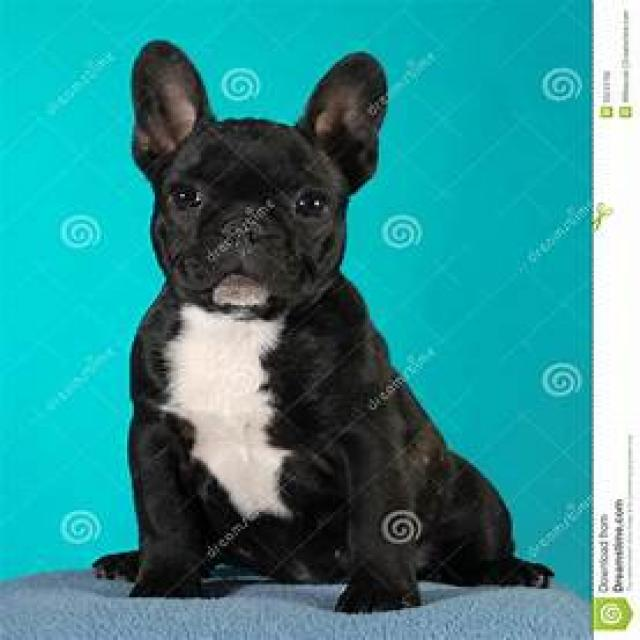dog: (92, 41, 552, 617)
